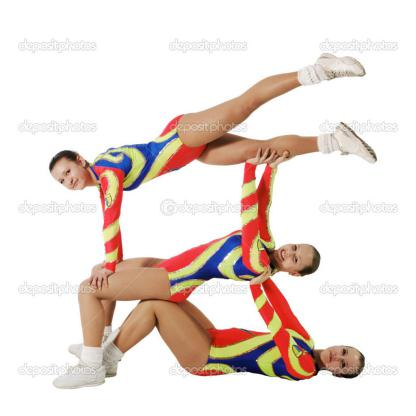face: (50, 160, 87, 192), (321, 346, 361, 374), (274, 244, 312, 272)
